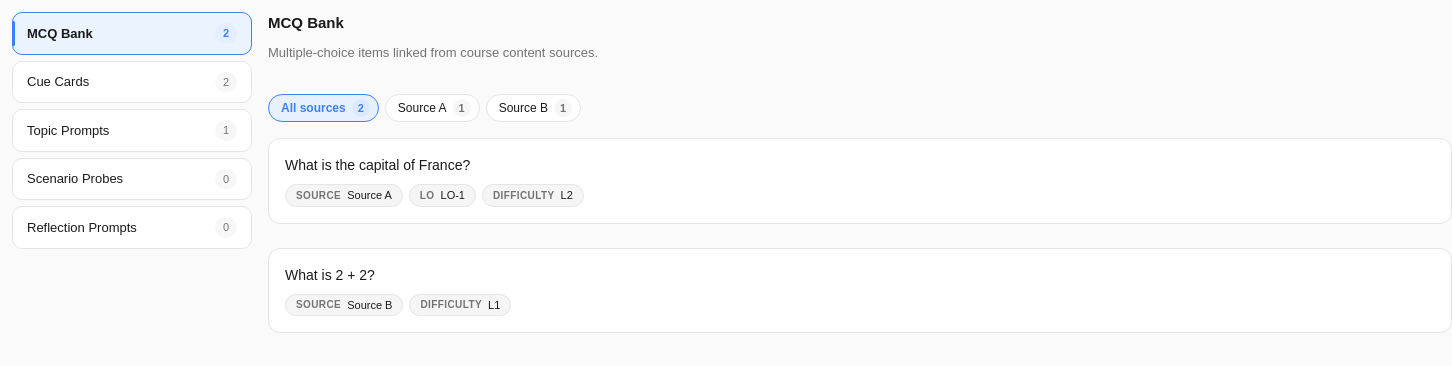
Test case: <CourseContentTab> — Content tab skeleton (#2204) › renders source filter chips on MCQ Bank and narrows the list when one is active
The image size is (1452, 366).
Expected: the element with test id "hf-content-filter-source" is shown, left=268, top=94, right=581, bottom=122
Expected: the button with test id "hf-content-chip-source-all" is shown, left=268, top=94, right=379, bottom=122
Step 1. Click the button with test id "hf-content-chip-source-src-a" → (432,108), box left=385, top=94, right=480, bottom=122
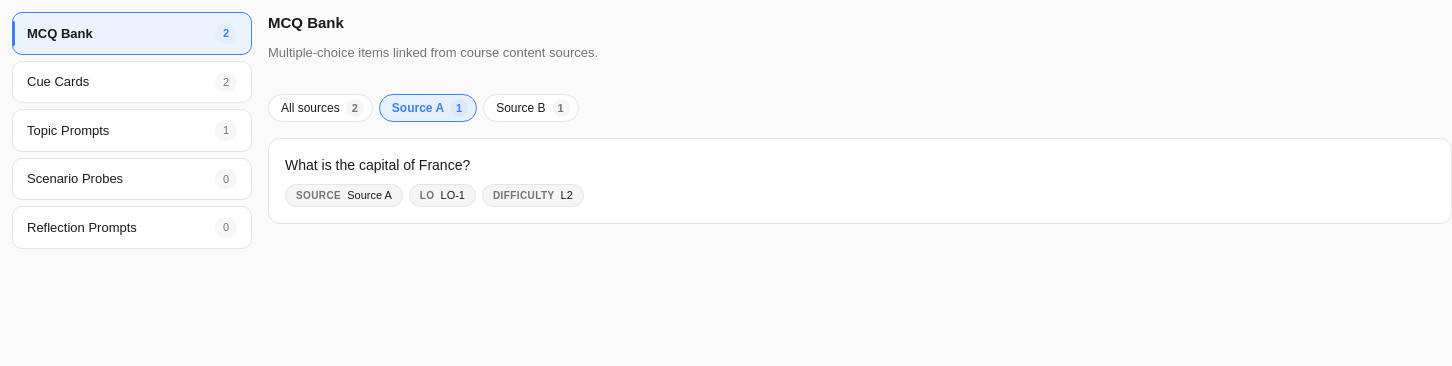
Expected: the list item with test id "hf-content-mcq-mcq-1" is shown, left=268, top=138, right=1451, bottom=224
Now the list item with test id "hf-content-mcq-mcq-2" is gone
